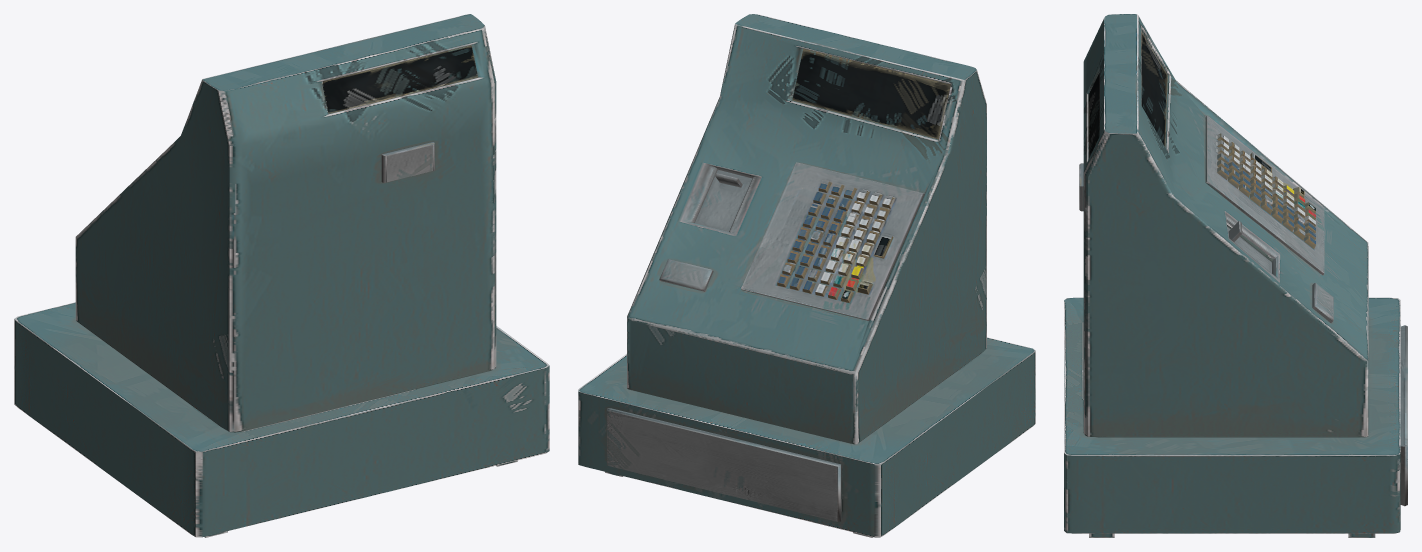
Rendered from kasa.fbx.
3 renders of one model, left to right at view 1: azimuth 30°, elevation 25°; view 2: azimuth 150°, elevation 25°; view 3: azimuth 270°, elevation 25°, orthographic. The views are drawn at different scales.
Parts seen in each view (by area): view 1: kasa; view 2: kasa; view 3: kasa.
Boxes of the visible parts, x1,y1,x2,y2 form: kasa: [14, 14, 549, 537]; kasa: [578, 14, 1035, 537]; kasa: [1064, 14, 1407, 537].
Bounding box in the file's own units: 45.55 × 53.15 × 41.9.
